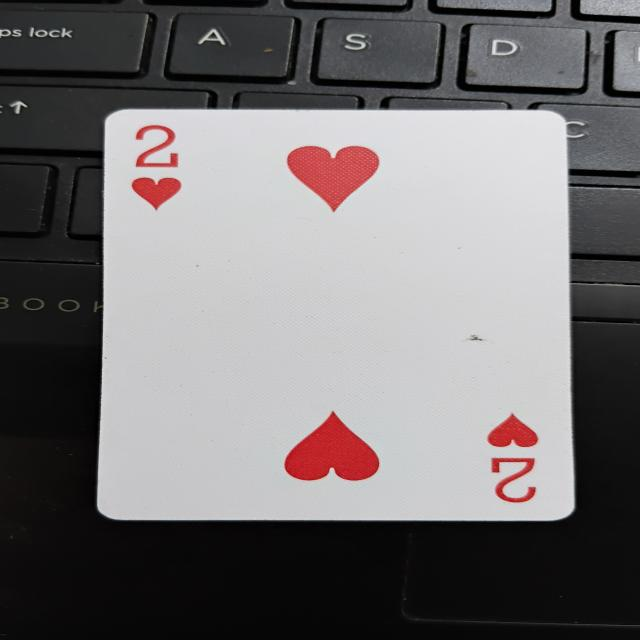2H: (84, 102, 577, 529)
